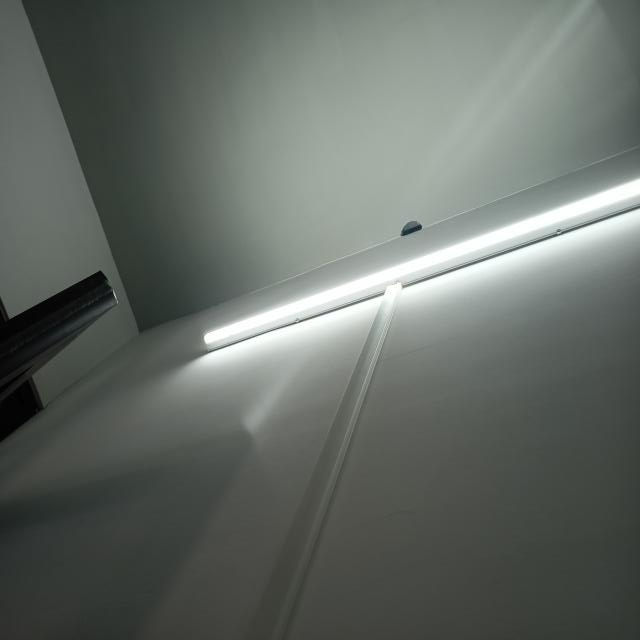fluorescent tube: (201, 147, 638, 369)
